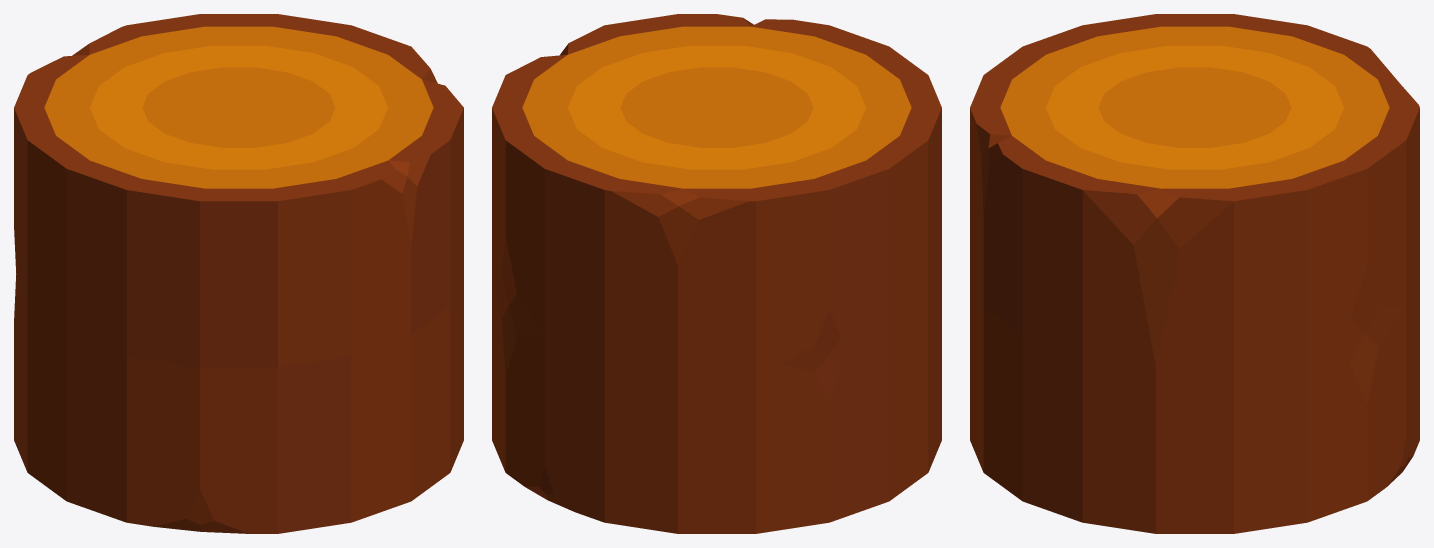
The model's file is Tree log_5.fbx.
The picture shows the model from 3 angles, left to right: view 1: azimuth 30°, elevation 25°; view 2: azimuth 150°, elevation 25°; view 3: azimuth 270°, elevation 25°; orthographic projection.
Visible parts, largest first — view 1: Circle.003; view 2: Circle.003; view 3: Circle.003.
Boxes of the visible parts, bbox=[...] form: Circle.003: bbox=[14, 14, 463, 533]; Circle.003: bbox=[492, 14, 941, 533]; Circle.003: bbox=[970, 14, 1419, 533].
Bounding box in the file's own units: 23.2 × 19.22 × 23.56.
